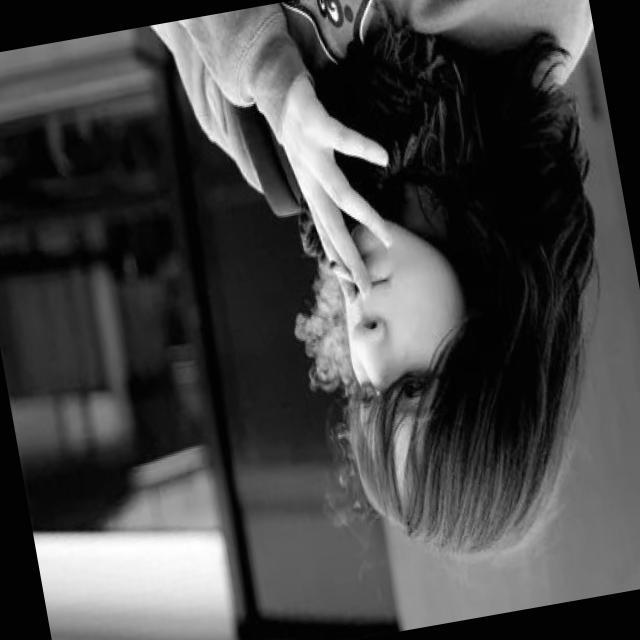smoke: (326, 248, 364, 290)
